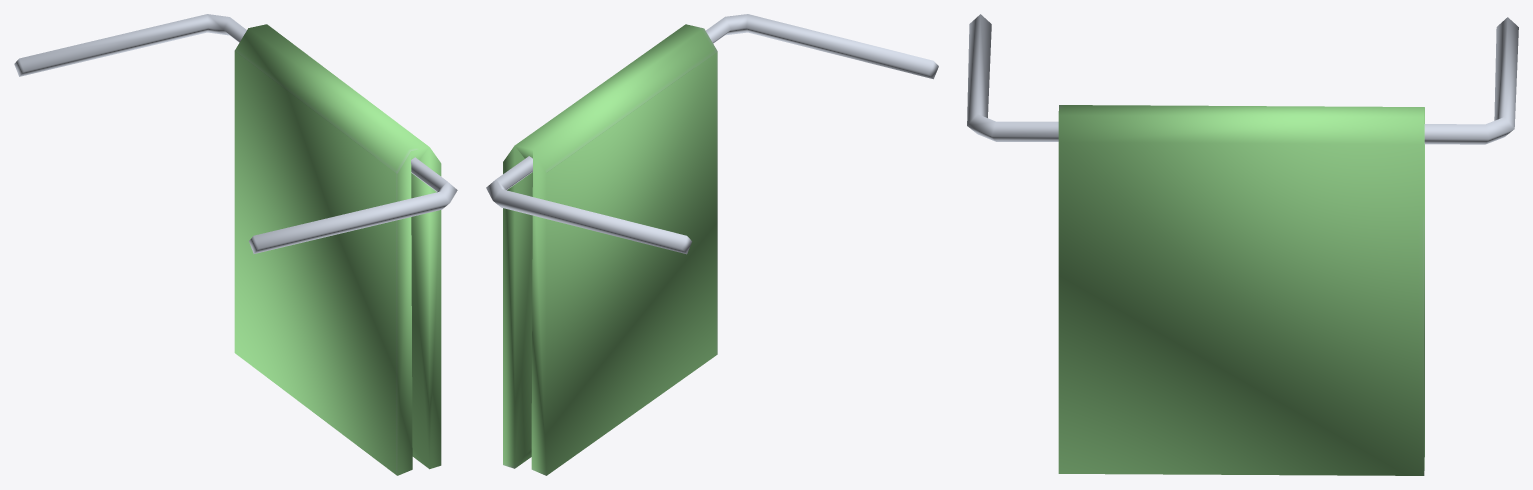
The model's file is Towel_green.fbx.
3 views of the same model, side by side, from view 1: azimuth 30°, elevation 25°; view 2: azimuth 150°, elevation 25°; view 3: azimuth 270°, elevation 25° (orthographic). The views are drawn at different scales.
Visible parts, largest first — view 1: Towel_green; view 2: Towel_green; view 3: Towel_green.
Boxes of the visible parts, left/top/right/bottom form: Towel_green: left=14, top=14, right=457, bottom=475; Towel_green: left=486, top=14, right=938, bottom=475; Towel_green: left=967, top=14, right=1518, bottom=475.
Size of the model in its own units: 0.3636 by 0.4934 by 0.6975.
